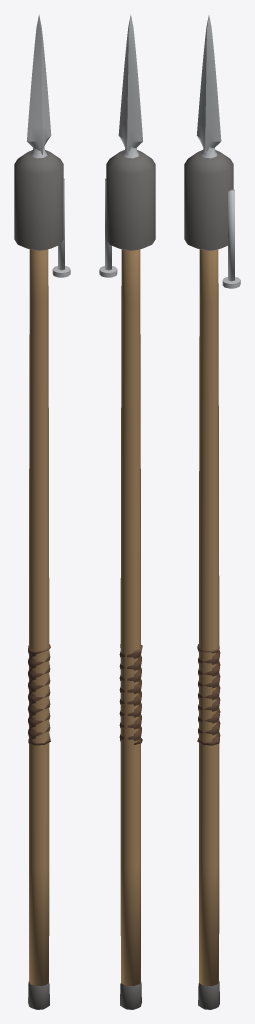
Rendered from injection-spear.glb.
3 views of the same model, side by side, from view 1: azimuth 30°, elevation 25°; view 2: azimuth 150°, elevation 25°; view 3: azimuth 330°, elevation 25° (orthographic).
Parts seen in each view (by area): view 1: injection-spear; view 2: injection-spear; view 3: injection-spear.
Part boxes in pixels (x1=…): injection-spear: x1=14, y1=14, x2=70, y2=1009; injection-spear: x1=99, y1=14, x2=155, y2=1009; injection-spear: x1=184, y1=15, x2=240, y2=1009.
Size of the model in its own units: 0.23 by 4.22 by 0.19.
